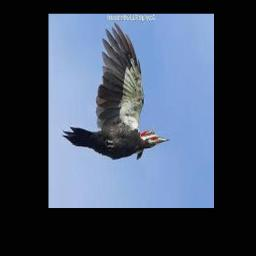Woodpecker: (62, 22, 170, 159)
